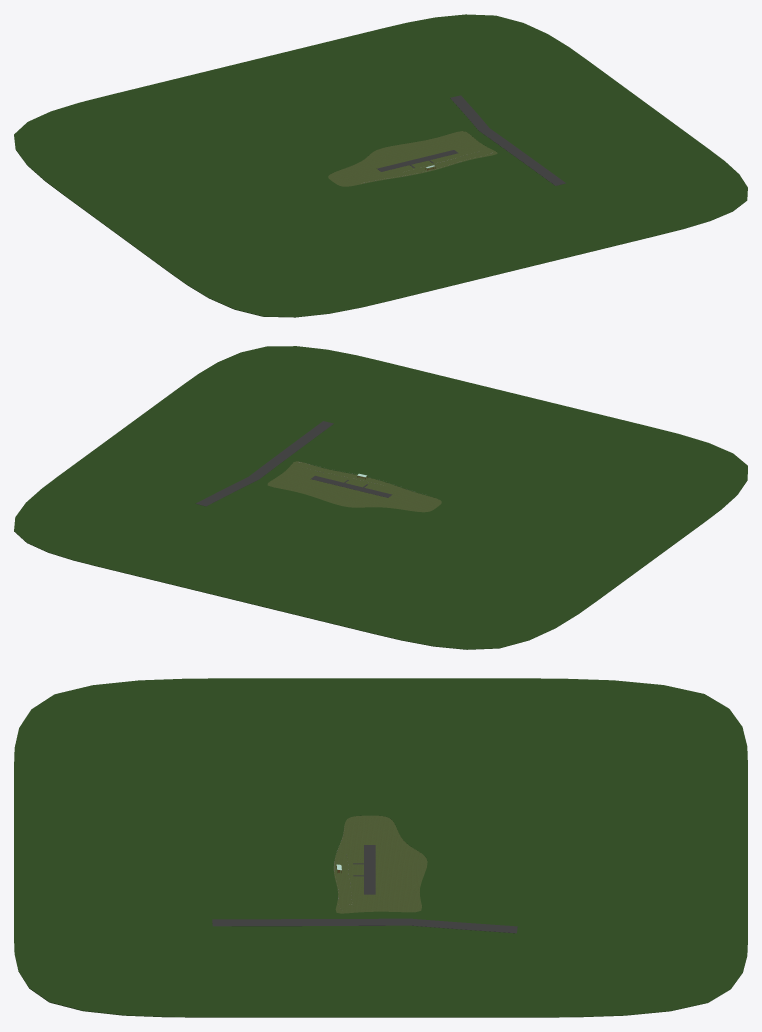
Rendered from BadgerField.glb.
3 views of the same model, one above another, from view 1: azimuth 30°, elevation 25°; view 2: azimuth 150°, elevation 25°; view 3: azimuth 270°, elevation 25° (orthographic). The views are drawn at different scales.
Visible parts, largest first — view 1: Outfield-col, Field-col, Road; view 2: Outfield-col, Field-col, Road; view 3: Outfield-col, Field-col, Road, Runway-col.
Part boxes in pixels (<box>): Outfield-col: <box>14,14,747,317</box>; Field-col: <box>328,131,497,186</box>; Road: <box>450,95,565,185</box>; Outfield-col: <box>14,346,747,649</box>; Field-col: <box>267,461,441,512</box>; Road: <box>195,421,333,506</box>; Outfield-col: <box>14,678,747,1017</box>; Field-col: <box>333,815,427,913</box>; Road: <box>212,918,517,933</box>; Runway-col: <box>353,845,375,894</box>.
Size of the model in its own units: 594 by 14.97 by 544.
Materials: 7 (3 with a texture image).
